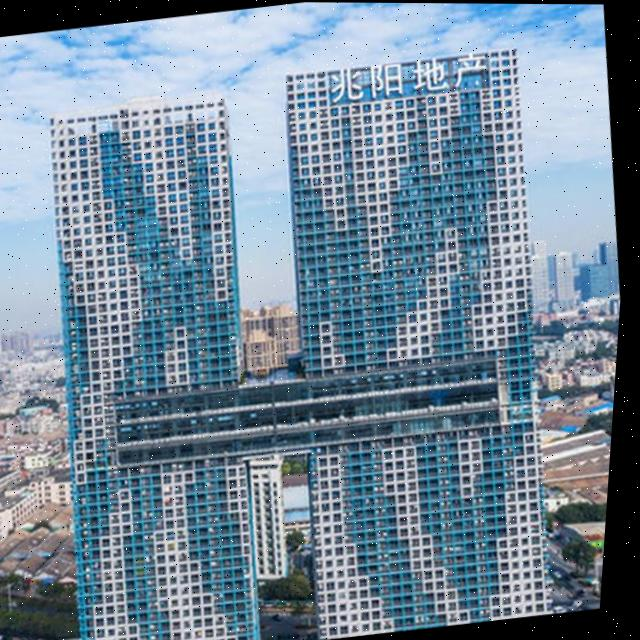building: (245, 45, 587, 640), (9, 87, 293, 640), (0, 319, 83, 533), (519, 227, 625, 316), (235, 446, 301, 586), (234, 301, 309, 380)
